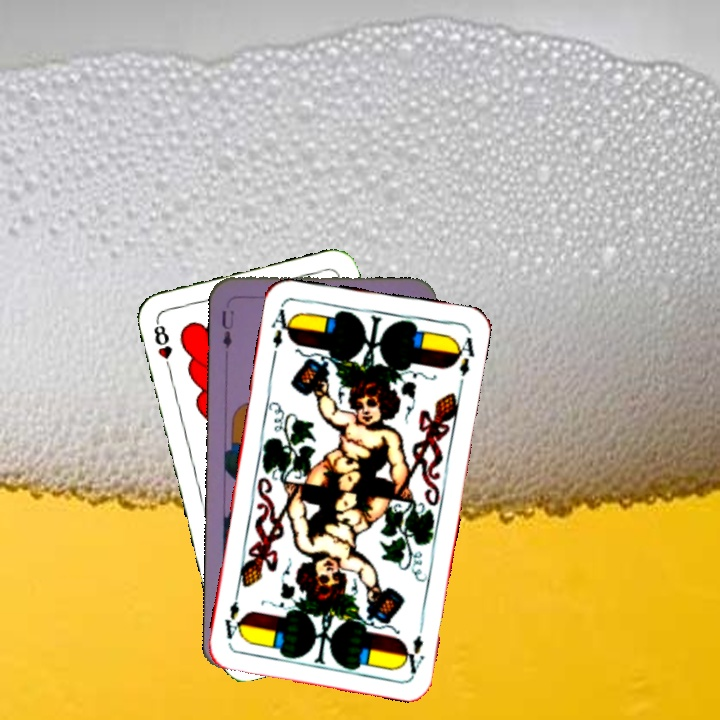EA: (267, 300, 296, 359), (400, 631, 426, 676)
EU: (218, 306, 237, 351)
H8: (150, 317, 175, 375)
